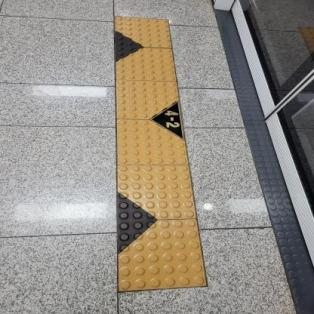Podoctatil: (106, 11, 215, 298)
